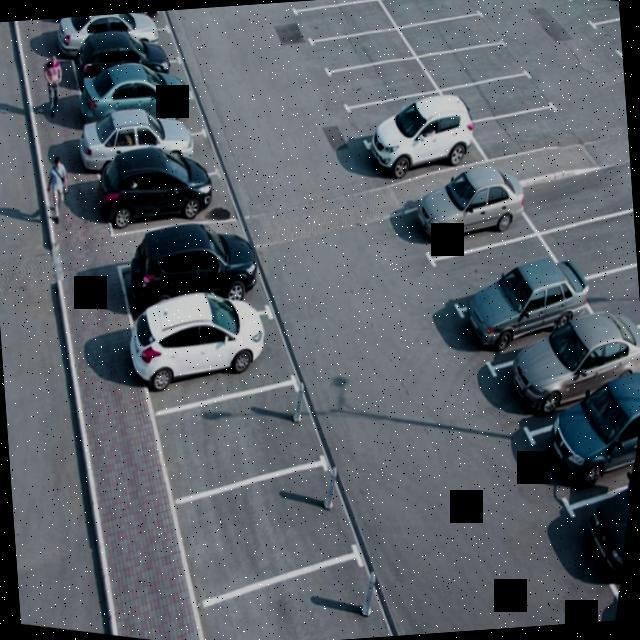car: (162, 452, 364, 616), (157, 366, 336, 506), (126, 272, 298, 417), (210, 533, 410, 640), (487, 313, 628, 441), (529, 360, 640, 518), (438, 248, 578, 368), (88, 140, 232, 253), (130, 208, 268, 319), (391, 159, 517, 274), (356, 93, 476, 191), (86, 62, 204, 152), (92, 108, 212, 192), (79, 35, 191, 103), (65, 9, 180, 74), (62, 10, 175, 41)
free: (412, 211, 548, 326), (524, 153, 634, 240), (326, 44, 428, 130), (338, 80, 439, 165), (308, 9, 406, 92), (540, 205, 638, 288), (448, 56, 548, 128), (406, 0, 505, 71), (475, 100, 565, 173), (291, 0, 392, 64), (432, 32, 524, 102), (577, 249, 640, 331), (385, 0, 491, 46), (278, 0, 365, 38), (570, 0, 621, 40), (602, 0, 624, 69)
